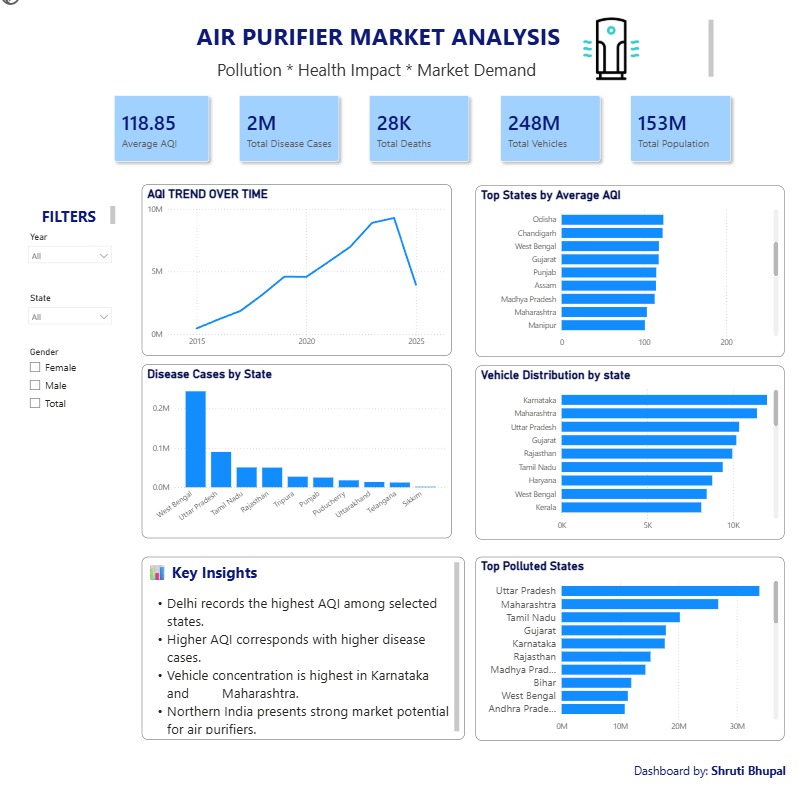

The dashboard page shown, as its layout file describes it:
{"tool":"powerbi","page":{"name":"Page 1","canvas":[1300,1300],"ordinal":0},"visuals":[{"type":"cardVisual","fields":{"Data":["Avg(day-wise-state-wise-air-quality-index-aqi-of-major-cities-and-towns-in-india.aqi_value)"]},"box":[155,150,211.7,165],"z":0},{"type":"cardVisual","fields":{"Data":["Sum(promo zip.cases)"]},"box":[356.2,150,219,165],"z":1},{"type":"cardVisual","fields":{"Data":["Sum(promo zip2.value)"]},"box":[773.2,150,219,165],"z":2},{"type":"slicer","fields":{"Values":["dim_state.state"]},"box":[37.1,490,154.3,85.7],"z":3},{"type":"slicer","fields":{"Values":["dim_year.Year.1"]},"box":[37.1,392.9,154.3,97.1],"z":4},{"type":"clusteredBarChart","title":"Top Polluted States","fields":{"Category":["dim_state.state"],"Y":["Sum(promo zip2.value)"]},"box":[764,918,494,294],"z":5},{"type":"lineChart","title":"AQI TREND OVER TIME","fields":{"Category":["dim_year.Year.1"],"Y":["Sum(day-wise-state-wise-air-quality-index-aqi-of-major-cities-and-towns-in-india.aqi_value)"]},"box":[230,322,496,274],"z":6},{"type":"clusteredColumnChart","title":"Disease Cases by State","fields":{"Category":["dim_state.state"],"Y":["Sum(promo zip.cases)"]},"box":[230,610,496,278],"z":7},{"type":"cardVisual","fields":{"Data":["Sum(promo zip.deaths)"]},"box":[564.7,150,219,165],"z":10},{"type":"slicer","fields":{"Values":["sheet1.gender"]},"box":[37.1,575.7,155.7,124.3],"z":11},{"type":"textbox","box":[84,54,1066,108],"z":12},{"type":"actionButton","box":[0,0,100,40],"z":14},{"type":"clusteredBarChart","fields":{"Category":["dim_state.state"],"Y":["Avg(day-wise-state-wise-air-quality-index-aqi-of-major-cities-and-towns-in-india.aqi_value)"]},"box":[764,324,494,274],"z":15},{"type":"clusteredBarChart","fields":{"Category":["dim_state.state"],"Y":["CountNonNull(promo zip2.vehicle_class)"]},"box":[764,612,494,278],"z":16},{"type":"cardVisual","fields":{"Data":["Sum(sheet1.value)"]},"box":[981.7,150,220,165],"z":17},{"type":"textbox","box":[230,918.6,517.1,292.9],"z":18},{"type":"actionButton","box":[0,0,100,40],"z":20},{"type":"textbox","box":[37.1,352.9,154.3,40],"z":21},{"type":"textbox","box":[1011.4,1241.4,268.6,40],"z":22},{"type":"image","box":[936,32,150,130],"z":23}]}

Visuals, with their boxes in screenshot pixels (x1, y1, x2, y2), scaled from the page's 1300x1300 canvas onto the 807x787 screenshot:
cardVisual - Avg(day-wise-state-wise-air-quality-index-aqi-of-major-cities-and-towns-in-india.aqi_value): {"left": 96, "top": 91, "right": 228, "bottom": 191}
cardVisual - Sum(promo zip.cases): {"left": 221, "top": 91, "right": 357, "bottom": 191}
cardVisual - Sum(promo zip2.value): {"left": 480, "top": 91, "right": 616, "bottom": 191}
slicer - dim_state.state: {"left": 23, "top": 297, "right": 119, "bottom": 349}
slicer - dim_year.Year.1: {"left": 23, "top": 238, "right": 119, "bottom": 297}
"Top Polluted States" clusteredBarChart: {"left": 474, "top": 556, "right": 781, "bottom": 734}
"AQI TREND OVER TIME" lineChart: {"left": 143, "top": 195, "right": 451, "bottom": 361}
"Disease Cases by State" clusteredColumnChart: {"left": 143, "top": 369, "right": 451, "bottom": 538}
cardVisual - Sum(promo zip.deaths): {"left": 351, "top": 91, "right": 486, "bottom": 191}
slicer - sheet1.gender: {"left": 23, "top": 349, "right": 120, "bottom": 424}
textbox: {"left": 52, "top": 33, "right": 714, "bottom": 98}
actionButton: {"left": 0, "top": 0, "right": 62, "bottom": 24}
clusteredBarChart - dim_state.state x Avg(day-wise-state-wise-air-quality-index-aqi-of-major-cities-and-towns-in-india.aqi_value): {"left": 474, "top": 196, "right": 781, "bottom": 362}
clusteredBarChart - dim_state.state x CountNonNull(promo zip2.vehicle_class): {"left": 474, "top": 370, "right": 781, "bottom": 539}
cardVisual - Sum(sheet1.value): {"left": 609, "top": 91, "right": 746, "bottom": 191}
textbox: {"left": 143, "top": 556, "right": 464, "bottom": 733}
actionButton: {"left": 0, "top": 0, "right": 62, "bottom": 24}
textbox: {"left": 23, "top": 214, "right": 119, "bottom": 238}
textbox: {"left": 628, "top": 752, "right": 795, "bottom": 776}
image: {"left": 581, "top": 19, "right": 674, "bottom": 98}
